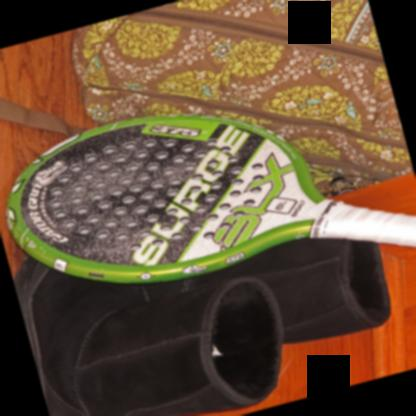handbag: (0, 0, 413, 200)
